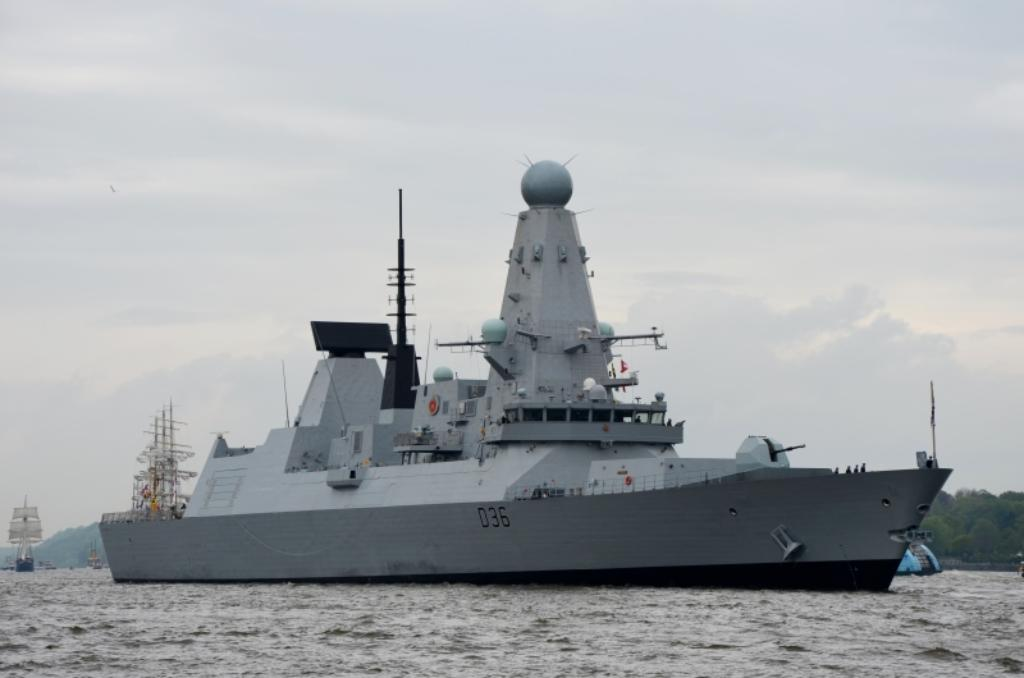Warship: (96, 152, 954, 598)
